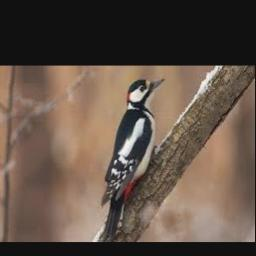Woodpecker: (102, 77, 165, 242)
